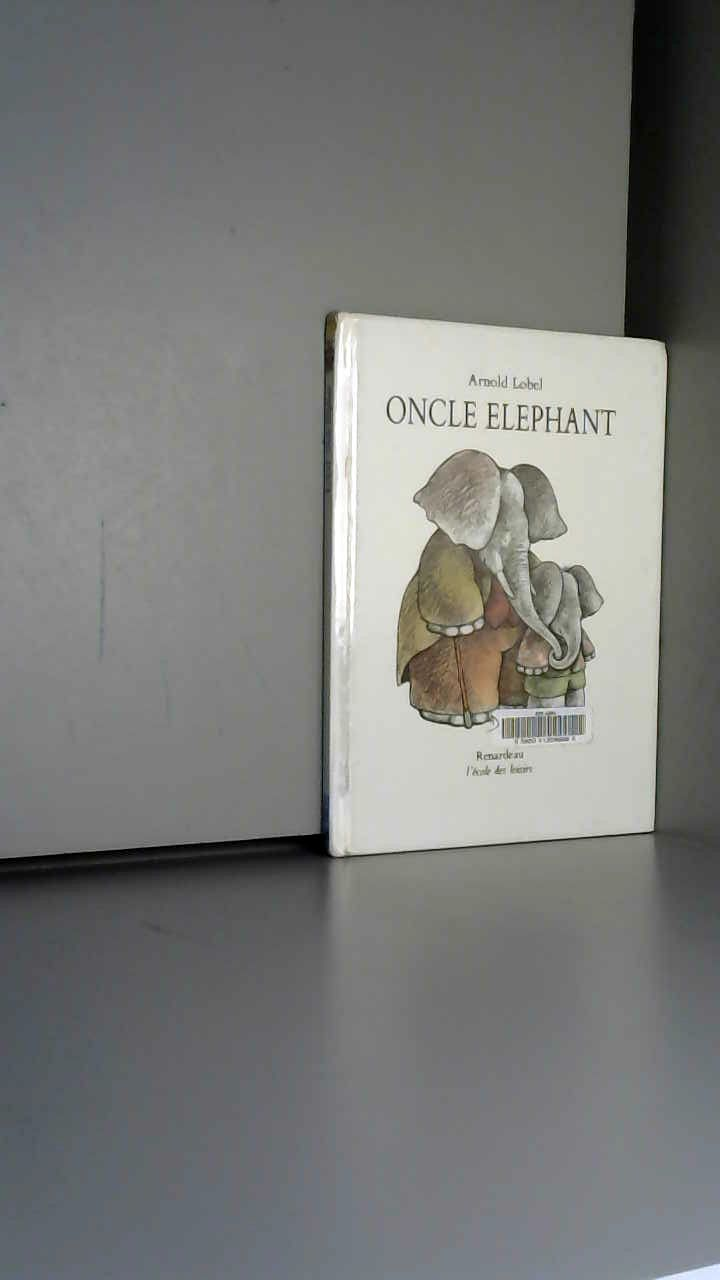book: (290, 280, 720, 938)
